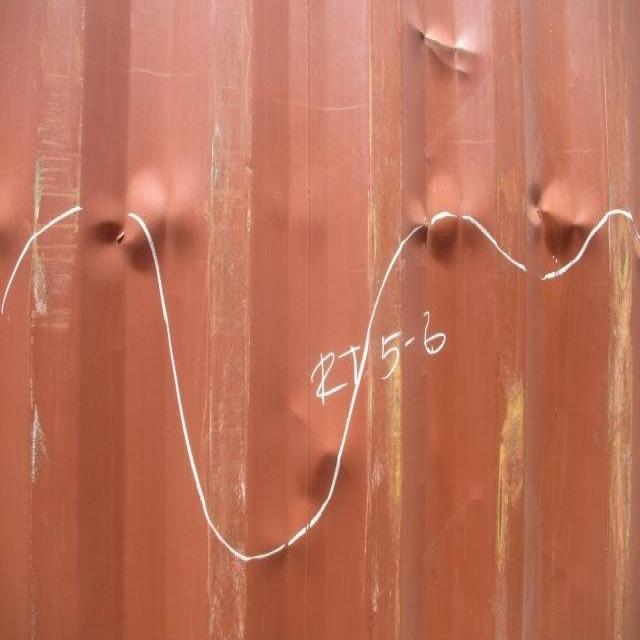dent: (391, 153, 626, 294), (241, 407, 377, 579), (65, 164, 228, 296), (396, 12, 505, 100)
